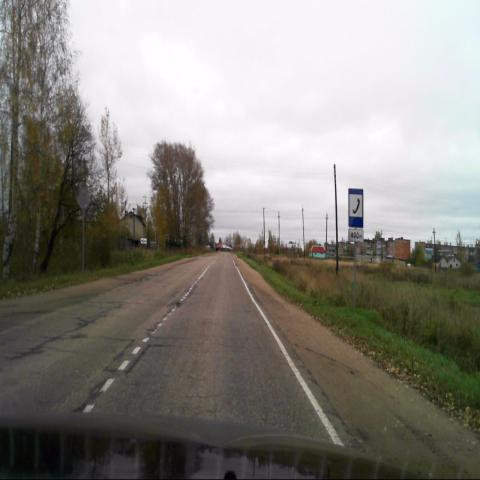7_6: (348, 188, 363, 228)
